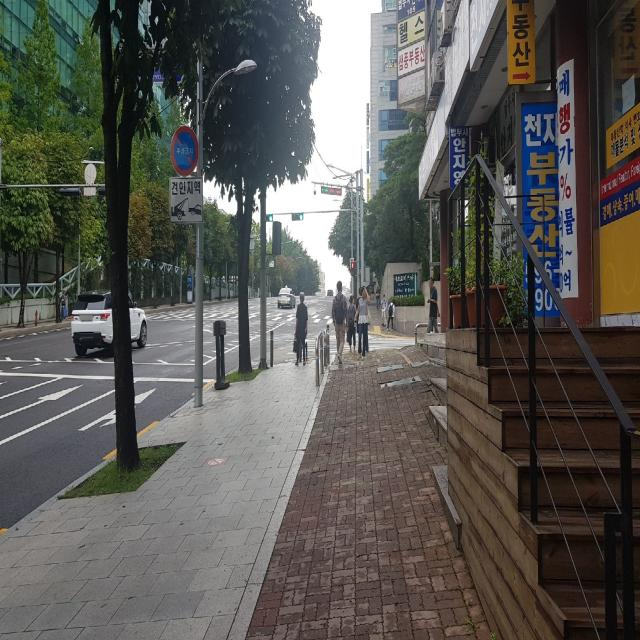빨간불: (349, 257, 356, 278)
횡단보도: (146, 307, 337, 327), (305, 334, 415, 353)
